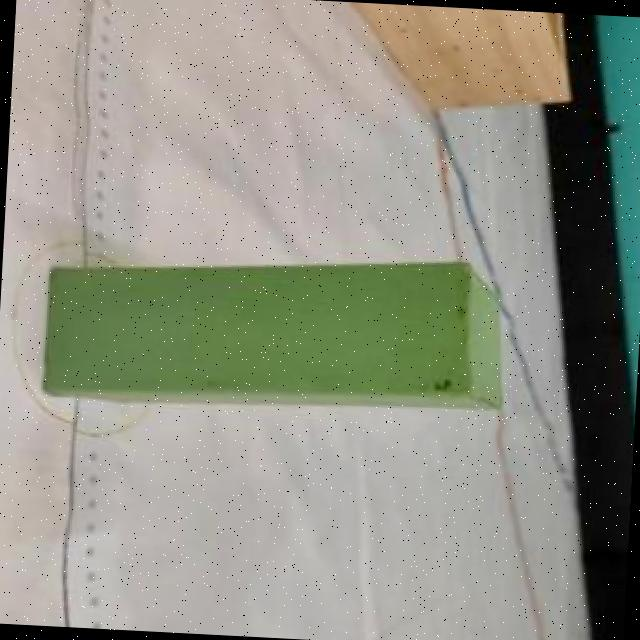greenbox: (40, 237, 509, 428)
